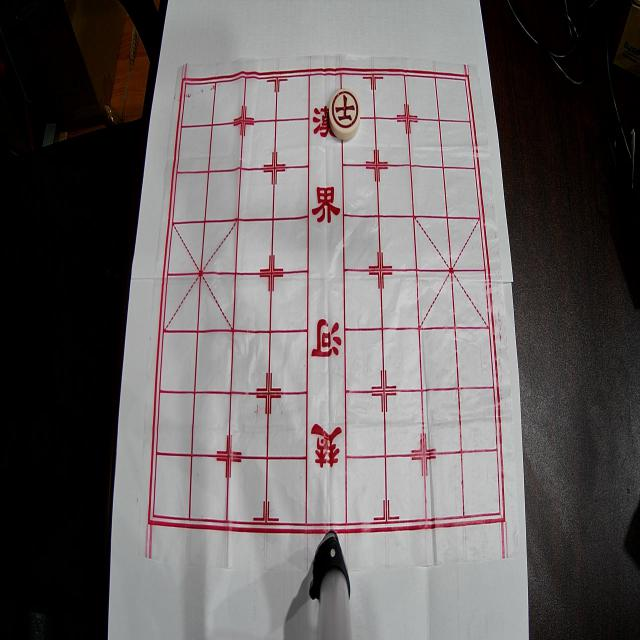red-guard: (329, 88, 360, 140)
